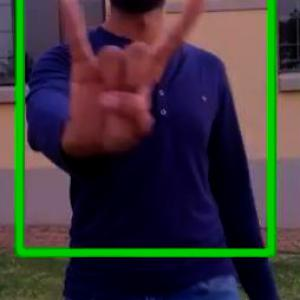takeoff-hand: (59, 0, 214, 180)
